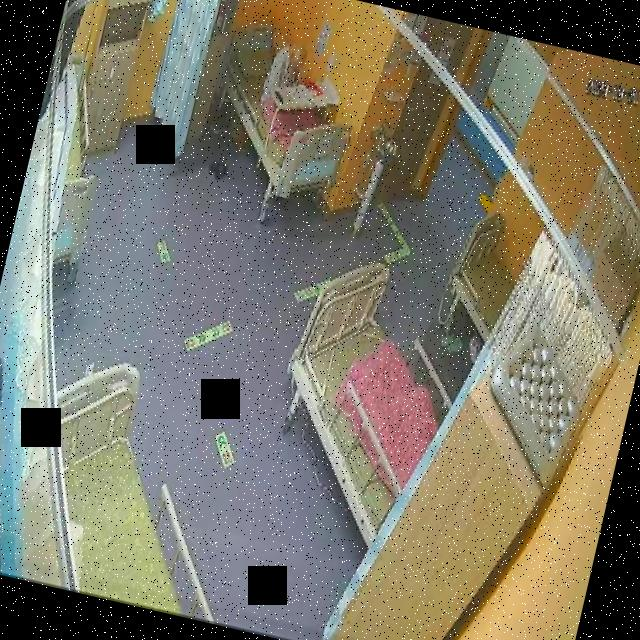bed: (13, 346, 265, 624), (258, 251, 470, 552), (198, 18, 368, 208), (437, 208, 529, 346)
patient: (257, 35, 309, 115)
sit: (256, 34, 310, 116)
